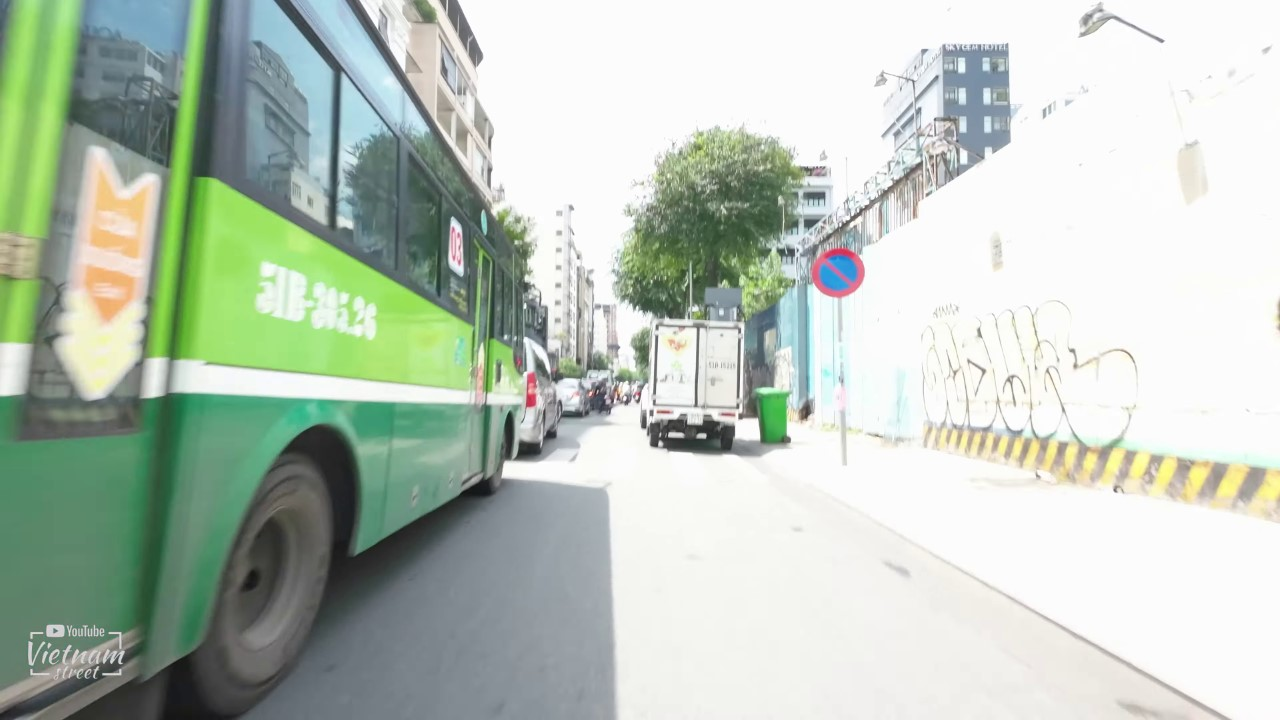cam_do_xe: (809, 243, 868, 299)
